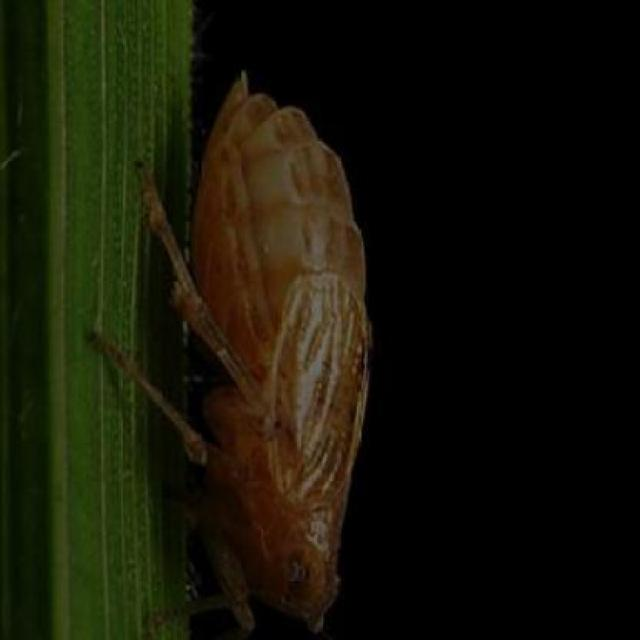brown-planthopper: (164, 66, 379, 620)
